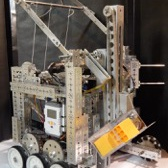robot: (2, 1, 151, 168)
